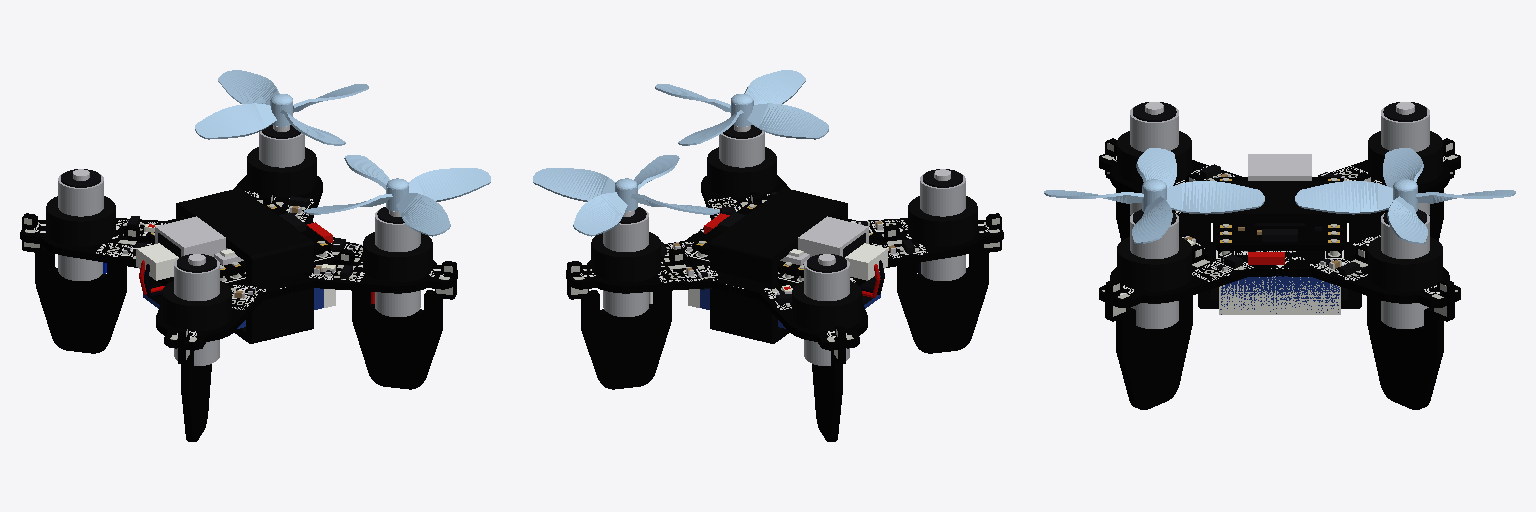
robot.urdf — e1_nano:
<?xml version="1.0"?>
<!-- Cherglow (琛光) E1 Nano v1.5Y - ESP32-S3 SuperMini mini quadcopter.
     Geometry generated from the real PCB (oshwhub.com/songge8/project_fnvbukbz, E1 Nano v1.5Y).
     Frame: base_link = FLU (x forward, y left, z up), origin at PCB centre, PCB mid-plane.
     Wheelbase 50.0 mm (motor-to-motor diagonal), PCB 50.9 x 50.9 x 1.2 mm, total mass ~25 g.
     Motor order/spin follows CF-Drone firmware (FL & RR = CW, FR & RL = CCW seen from above). -->
<robot name="e1_nano">
  <!-- Genesis reads this first element: thrust = kf*rpm^2 [N], yaw torque = km*rpm^2 [N.m] (ESTIMATED: 22 gf @ 38000 rpm).
       Rotor joints are fixed here: Genesis applies thrust to the propeller links and animates them itself. -->
  <properties arm="0.025" kf="1.496e-10" km="7.48e-13" thrust2weight="3.5" max_speed_kmh="30" gnd_eff_coeff="11.36859" prop_radius="0.0155" drag_coeff_xy="9.1785e-7" drag_coeff_z="10.311e-7" dw_coeff_1="2267.18" dw_coeff_2="0.16" dw_coeff_3="-0.11"/>

  <material name="e1_pcb"><color rgba="0.035 0.035 0.04 1"/></material>
  <material name="e1_pad"><color rgba="0.78 0.78 0.76 1"/></material>
  <material name="e1_silk"><color rgba="0.93 0.93 0.93 1"/></material>
  <material name="e1_ic"><color rgba="0.08 0.08 0.09 1"/></material>
  <material name="e1_cap"><color rgba="0.62 0.5 0.34 1"/></material>
  <material name="e1_metal"><color rgba="0.8 0.8 0.82 1"/></material>
  <material name="e1_led"><color rgba="0.95 0.95 0.88 1"/></material>
  <material name="e1_red"><color rgba="0.8 0.08 0.06 1"/></material>
  <material name="e1_white"><color rgba="0.95 0.95 0.93 1"/></material>
  <material name="e1_gold"><color rgba="0.85 0.68 0.3 1"/></material>
  <material name="e1_battery"><color rgba="0.15 0.25 0.55 1"/></material>
  <material name="e1_velcro"><color rgba="0.05 0.05 0.05 1"/></material>
  <material name="e1_wire_r"><color rgba="0.75 0.05 0.05 1"/></material>
  <material name="e1_wire_b"><color rgba="0.05 0.05 0.08 1"/></material>
  <material name="e1_motor"><color rgba="0.72 0.73 0.75 1"/></material>
  <material name="e1_rubber"><color rgba="0.06 0.06 0.06 1"/></material>
  <material name="e1_wire_w"><color rgba="0.92 0.92 0.92 1"/></material>
  <material name="e1_wire_u"><color rgba="0.05 0.2 0.75 1"/></material>
  <material name="e1_prop"><color rgba="0.7 0.82 0.92 0.55"/></material>

  <link name="base_link">
    <inertial>
      <origin xyz="-0.000282001 5.49032e-07 0.000227901" rpy="0 0 0"/>
      <mass value="0.0251"/>
      <inertia ixx="5.8176e-06" ixy="7.94724e-10" ixz="2.49336e-08" iyy="6.14153e-06" iyz="1.32116e-10" izz="9.82951e-06"/>
    </inertial>
    <visual name="pcb">
      <origin xyz="0 0 0" rpy="0 0 0"/>
      <geometry><mesh filename="../meshes/visual/base_link__pcb.stl" scale="1 1 1"/></geometry>
      <material name="e1_pcb"/>
    </visual>
    <visual name="pad">
      <origin xyz="0 0 0" rpy="0 0 0"/>
      <geometry><mesh filename="../meshes/visual/base_link__pad.stl" scale="1 1 1"/></geometry>
      <material name="e1_pad"/>
    </visual>
    <visual name="silk">
      <origin xyz="0 0 0" rpy="0 0 0"/>
      <geometry><mesh filename="../meshes/visual/base_link__silk.stl" scale="1 1 1"/></geometry>
      <material name="e1_silk"/>
    </visual>
    <visual name="ic">
      <origin xyz="0 0 0" rpy="0 0 0"/>
      <geometry><mesh filename="../meshes/visual/base_link__ic.stl" scale="1 1 1"/></geometry>
      <material name="e1_ic"/>
    </visual>
    <visual name="cap">
      <origin xyz="0 0 0" rpy="0 0 0"/>
      <geometry><mesh filename="../meshes/visual/base_link__cap.stl" scale="1 1 1"/></geometry>
      <material name="e1_cap"/>
    </visual>
    <visual name="metal">
      <origin xyz="0 0 0" rpy="0 0 0"/>
      <geometry><mesh filename="../meshes/visual/base_link__metal.stl" scale="1 1 1"/></geometry>
      <material name="e1_metal"/>
    </visual>
    <visual name="led">
      <origin xyz="0 0 0" rpy="0 0 0"/>
      <geometry><mesh filename="../meshes/visual/base_link__led.stl" scale="1 1 1"/></geometry>
      <material name="e1_led"/>
    </visual>
    <visual name="red">
      <origin xyz="0 0 0" rpy="0 0 0"/>
      <geometry><mesh filename="../meshes/visual/base_link__red.stl" scale="1 1 1"/></geometry>
      <material name="e1_red"/>
    </visual>
    <visual name="white">
      <origin xyz="0 0 0" rpy="0 0 0"/>
      <geometry><mesh filename="../meshes/visual/base_link__white.stl" scale="1 1 1"/></geometry>
      <material name="e1_white"/>
    </visual>
    <visual name="gold">
      <origin xyz="0 0 0" rpy="0 0 0"/>
      <geometry><mesh filename="../meshes/visual/base_link__gold.stl" scale="1 1 1"/></geometry>
      <material name="e1_gold"/>
    </visual>
    <visual name="battery">
      <origin xyz="0 0 0" rpy="0 0 0"/>
      <geometry><mesh filename="../meshes/visual/base_link__battery.stl" scale="1 1 1"/></geometry>
      <material name="e1_battery"/>
    </visual>
    <visual name="velcro">
      <origin xyz="0 0 0" rpy="0 0 0"/>
      <geometry><mesh filename="../meshes/visual/base_link__velcro.stl" scale="1 1 1"/></geometry>
      <material name="e1_velcro"/>
    </visual>
    <visual name="wire_r">
      <origin xyz="0 0 0" rpy="0 0 0"/>
      <geometry><mesh filename="../meshes/visual/base_link__wire_r.stl" scale="1 1 1"/></geometry>
      <material name="e1_wire_r"/>
    </visual>
    <visual name="wire_b">
      <origin xyz="0 0 0" rpy="0 0 0"/>
      <geometry><mesh filename="../meshes/visual/base_link__wire_b.stl" scale="1 1 1"/></geometry>
      <material name="e1_wire_b"/>
    </visual>
    <visual name="motor">
      <origin xyz="0 0 0" rpy="0 0 0"/>
      <geometry><mesh filename="../meshes/visual/base_link__motor.stl" scale="1 1 1"/></geometry>
      <material name="e1_motor"/>
    </visual>
    <visual name="rubber">
      <origin xyz="0 0 0" rpy="0 0 0"/>
      <geometry><mesh filename="../meshes/visual/base_link__rubber.stl" scale="1 1 1"/></geometry>
      <material name="e1_rubber"/>
    </visual>
    <visual name="wire_w">
      <origin xyz="0 0 0" rpy="0 0 0"/>
      <geometry><mesh filename="../meshes/visual/base_link__wire_w.stl" scale="1 1 1"/></geometry>
      <material name="e1_wire_w"/>
    </visual>
    <visual name="wire_u">
      <origin xyz="0 0 0" rpy="0 0 0"/>
      <geometry><mesh filename="../meshes/visual/base_link__wire_u.stl" scale="1 1 1"/></geometry>
      <material name="e1_wire_u"/>
    </visual>
    <collision name="pcb_core">
      <origin xyz="0 0 0" rpy="0 0 0"/>
      <geometry><box size="0.026 0.026 0.0012"/></geometry>
    </collision>
    <collision name="arm_0">
      <origin xyz="0 0 0" rpy="0 0 0.785398"/>
      <geometry><box size="0.070 0.011 0.0012"/></geometry>
    </collision>
    <collision name="arm_1">
      <origin xyz="0 0 0" rpy="0 0 -0.785398"/>
      <geometry><box size="0.070 0.011 0.0012"/></geometry>
    </collision>
    <collision name="esp32_stack">
      <origin xyz="0 0 0.002625" rpy="0 0 0"/>
      <geometry><box size="0.0225 0.0235 0.00405"/></geometry>
    </collision>
    <collision name="battery">
      <origin xyz="0 0 -0.00545" rpy="0 0 0"/>
      <geometry><box size="0.024 0.0235 0.0071"/></geometry>
    </collision>
    <collision name="motor_front_left">
      <origin xyz="0.0176784 0.0176784 0.00194154" rpy="0 0 0"/>
      <geometry><cylinder radius="0.0045" length="0.016"/></geometry>
    </collision>
    <collision name="leg_front_left">
      <origin xyz="0.0176784 0.0176784 -0.00829513" rpy="0 0 0.785398"/>
      <geometry><box size="0.0184 0.0012 0.0211903"/></geometry>
    </collision>
    <collision name="motor_front_right">
      <origin xyz="0.0176784 -0.0176784 0.00194154" rpy="0 0 0"/>
      <geometry><cylinder radius="0.0045" length="0.016"/></geometry>
    </collision>
    <collision name="leg_front_right">
      <origin xyz="0.0176784 -0.0176784 -0.00829513" rpy="0 0 -0.785398"/>
      <geometry><box size="0.0184 0.0012 0.0211903"/></geometry>
    </collision>
    <collision name="motor_rear_left">
      <origin xyz="-0.0176784 0.0176784 0.00194154" rpy="0 0 0"/>
      <geometry><cylinder radius="0.0045" length="0.016"/></geometry>
    </collision>
    <collision name="leg_rear_left">
      <origin xyz="-0.0176784 0.0176784 -0.00829513" rpy="0 0 2.35619"/>
      <geometry><box size="0.0184 0.0012 0.0211903"/></geometry>
    </collision>
    <collision name="motor_rear_right">
      <origin xyz="-0.0176784 -0.0176784 0.00194154" rpy="0 0 0"/>
      <geometry><cylinder radius="0.0045" length="0.016"/></geometry>
    </collision>
    <collision name="leg_rear_right">
      <origin xyz="-0.0176784 -0.0176784 -0.00829513" rpy="0 0 -2.35619"/>
      <geometry><box size="0.0184 0.0012 0.0211903"/></geometry>
    </collision>
  </link>

  <link name="imu_link"/>
  <joint name="imu_joint" type="fixed">
    <parent link="base_link"/>
    <child link="imu_link"/>
    <origin xyz="0.00712216 1.27e-05 0.00108" rpy="0 0 0"/>
  </joint>

  <link name="rotor_front_left">
    <inertial>
      <origin xyz="0 0 0.002" rpy="0 0 0"/>
      <mass value="0"/>
      <inertia ixx="0" ixy="0" ixz="0" iyy="0" iyz="0" izz="0"/>
    </inertial>
    <visual name="prop">
      <origin xyz="0 0 0" rpy="0 0 0"/>
      <geometry><mesh filename="../meshes/visual/rotor_front_left__prop.stl" scale="1 1 1"/></geometry>
      <material name="e1_prop"/>
    </visual>
    <visual name="metal">
      <origin xyz="0 0 0" rpy="0 0 0"/>
      <geometry><mesh filename="../meshes/visual/rotor_front_left__metal.stl" scale="1 1 1"/></geometry>
      <material name="e1_metal"/>
    </visual>
    <collision name="disc">
      <origin xyz="0 0 0.002" rpy="0 0 0"/>
      <geometry><cylinder radius="0.0155" length="0.003"/></geometry>
    </collision>
  </link>
  <!-- rotor_front_left: CW seen from above -->
  <joint name="rotor_front_left_joint" type="fixed">
    <parent link="base_link"/>
    <child link="rotor_front_left"/>
    <origin xyz="0.0176784 0.0176784 0.0110415" rpy="0 0 0"/>
  </joint>

  <link name="rotor_front_right">
    <inertial>
      <origin xyz="0 0 0.002" rpy="0 0 0"/>
      <mass value="0"/>
      <inertia ixx="0" ixy="0" ixz="0" iyy="0" iyz="0" izz="0"/>
    </inertial>
    <visual name="prop">
      <origin xyz="0 0 0" rpy="0 0 0"/>
      <geometry><mesh filename="../meshes/visual/rotor_front_right__prop.stl" scale="1 1 1"/></geometry>
      <material name="e1_prop"/>
    </visual>
    <visual name="metal">
      <origin xyz="0 0 0" rpy="0 0 0"/>
      <geometry><mesh filename="../meshes/visual/rotor_front_right__metal.stl" scale="1 1 1"/></geometry>
      <material name="e1_metal"/>
    </visual>
    <collision name="disc">
      <origin xyz="0 0 0.002" rpy="0 0 0"/>
      <geometry><cylinder radius="0.0155" length="0.003"/></geometry>
    </collision>
  </link>
  <!-- rotor_front_right: CCW seen from above -->
  <joint name="rotor_front_right_joint" type="fixed">
    <parent link="base_link"/>
    <child link="rotor_front_right"/>
    <origin xyz="0.0176784 -0.0176784 0.0110415" rpy="0 0 0"/>
  </joint>

  <link name="rotor_rear_left">
    <inertial>
      <origin xyz="0 0 0.002" rpy="0 0 0"/>
      <mass value="0"/>
      <inertia ixx="0" ixy="0" ixz="0" iyy="0" iyz="0" izz="0"/>
    </inertial>
    <visual name="prop">
      <origin xyz="0 0 0" rpy="0 0 0"/>
      <geometry><mesh filename="../meshes/visual/rotor_rear_left__prop.stl" scale="1 1 1"/></geometry>
      <material name="e1_prop"/>
    </visual>
    <visual name="metal">
      <origin xyz="0 0 0" rpy="0 0 0"/>
      <geometry><mesh filename="../meshes/visual/rotor_rear_left__metal.stl" scale="1 1 1"/></geometry>
      <material name="e1_metal"/>
    </visual>
    <collision name="disc">
      <origin xyz="0 0 0.002" rpy="0 0 0"/>
      <geometry><cylinder radius="0.0155" length="0.003"/></geometry>
    </collision>
  </link>
  <!-- rotor_rear_left: CCW seen from above -->
  <joint name="rotor_rear_left_joint" type="fixed">
    <parent link="base_link"/>
    <child link="rotor_rear_left"/>
    <origin xyz="-0.0176784 0.0176784 0.0110415" rpy="0 0 0"/>
  </joint>

  <link name="rotor_rear_right">
    <inertial>
      <origin xyz="0 0 0.002" rpy="0 0 0"/>
      <mass value="0"/>
      <inertia ixx="0" ixy="0" ixz="0" iyy="0" iyz="0" izz="0"/>
    </inertial>
    <visual name="prop">
      <origin xyz="0 0 0" rpy="0 0 0"/>
      <geometry><mesh filename="../meshes/visual/rotor_rear_right__prop.stl" scale="1 1 1"/></geometry>
      <material name="e1_prop"/>
    </visual>
    <visual name="metal">
      <origin xyz="0 0 0" rpy="0 0 0"/>
      <geometry><mesh filename="../meshes/visual/rotor_rear_right__metal.stl" scale="1 1 1"/></geometry>
      <material name="e1_metal"/>
    </visual>
    <collision name="disc">
      <origin xyz="0 0 0.002" rpy="0 0 0"/>
      <geometry><cylinder radius="0.0155" length="0.003"/></geometry>
    </collision>
  </link>
  <!-- rotor_rear_right: CW seen from above -->
  <joint name="rotor_rear_right_joint" type="fixed">
    <parent link="base_link"/>
    <child link="rotor_rear_right"/>
    <origin xyz="-0.0176784 -0.0176784 0.0110415" rpy="0 0 0"/>
  </joint>

</robot>

--- Facts derived from the render (not from the file) ---
Views: 3 orthographic renders of the robot side by side, from view 1: azimuth 30°, elevation 25°; view 2: azimuth 150°, elevation 25°; view 3: azimuth 270°, elevation 25°.
Robot: e1_nano — 6 links, 5 joints (5 fixed); root link base_link; default pose: every joint at zero.
Visible links, largest first — view 1: base_link, rotor_front_right, rotor_front_left; view 2: base_link, rotor_front_left, rotor_front_right; view 3: base_link, rotor_front_left, rotor_front_right.
Link boxes in pixels (x1=…): base_link: x1=20, y1=125, x2=457, y2=441; rotor_front_right: x1=304, y1=155, x2=490, y2=236; rotor_front_left: x1=195, y1=70, x2=368, y2=145; base_link: x1=566, y1=125, x2=1003, y2=441; rotor_front_left: x1=533, y1=155, x2=719, y2=236; rotor_front_right: x1=655, y1=70, x2=828, y2=145; base_link: x1=1099, y1=102, x2=1460, y2=409; rotor_front_left: x1=1295, y1=148, x2=1515, y2=243; rotor_front_right: x1=1044, y1=148, x2=1264, y2=243.
Bounding box of the posed robot: 0.0586 × 0.0664 × 0.0347 m (x, y, z).
21 mesh visuals loaded from 26 distinct referenced files (21 binary STL); not drawn: 5 (reference not matched to a file when rendering).
